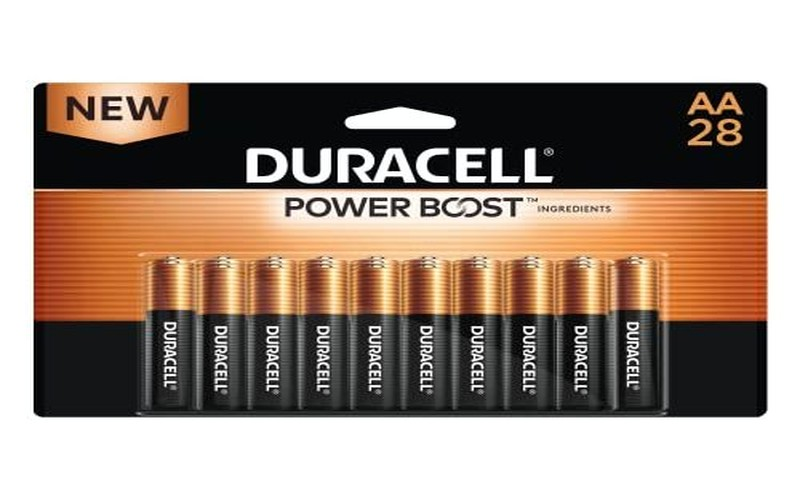Battery: (129, 243, 674, 425)
